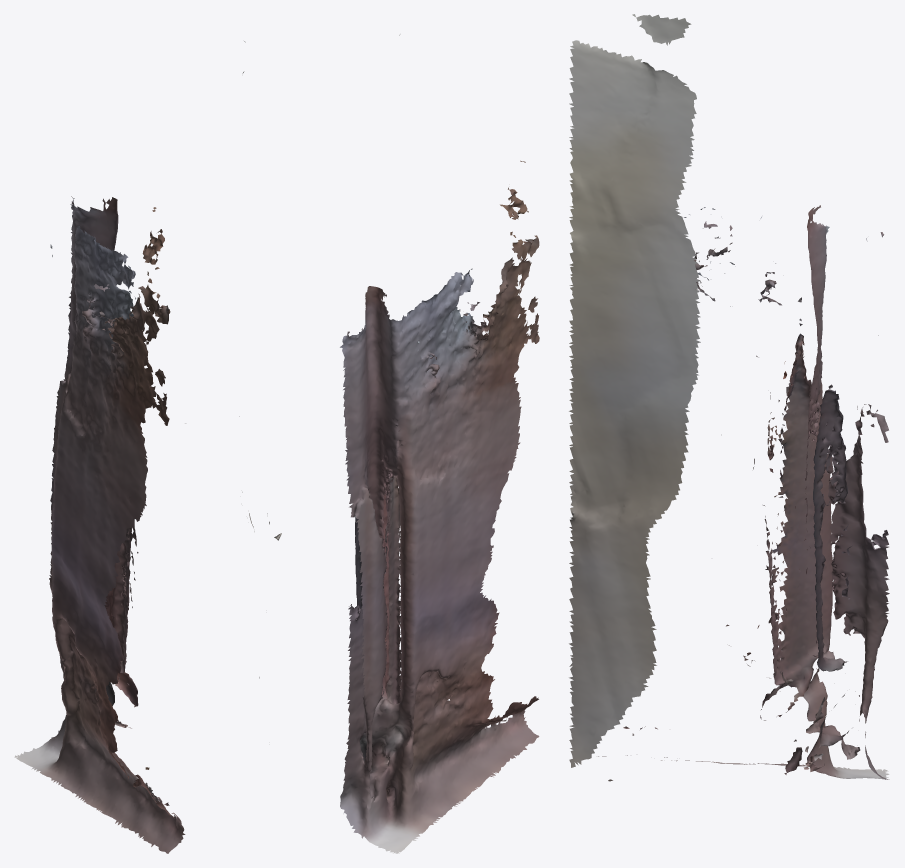
The model's file is apartment-full-64-3644dbb5b52e.glb.
3 renders of one model, left to right at view 1: azimuth 30°, elevation 25°; view 2: azimuth 150°, elevation 25°; view 3: azimuth 270°, elevation 25°, orthographic. The views are drawn at different scales.
Bounding box in the file's own units: 0.291 × 1.93 × 0.673.
